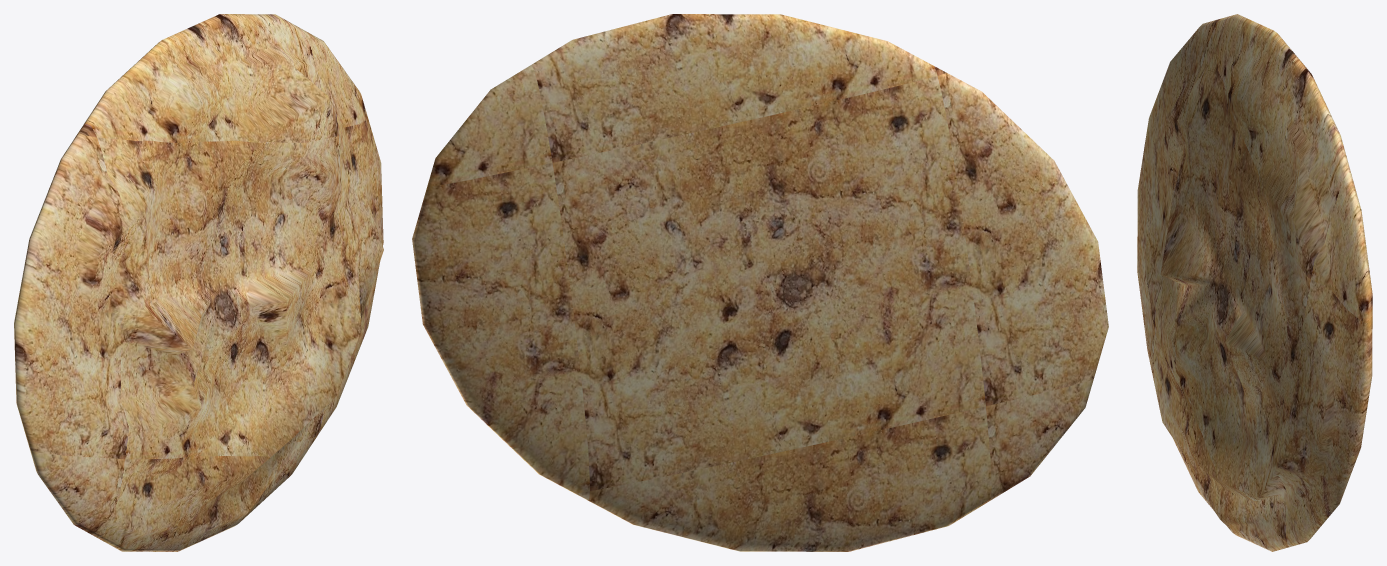
Rendered from AvsG_cookie.fbx.
3 views of the same model, side by side, from view 1: azimuth 30°, elevation 25°; view 2: azimuth 150°, elevation 25°; view 3: azimuth 270°, elevation 25° (orthographic). The views are drawn at different scales.
Parts seen in each view (by area): view 1: pSphere1; view 2: pSphere1; view 3: pSphere1.
Boxes of the visible parts, box(x1,y1,x2,y2) form: pSphere1: box(14, 14, 383, 551); pSphere1: box(412, 14, 1108, 551); pSphere1: box(1137, 14, 1372, 551).
Size of the model in its own units: 9.71 by 9.42 by 4.19.
Materials: 1 (1 with a texture image).
